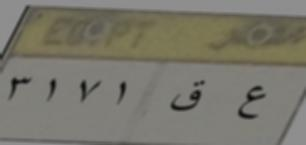1: (112, 76, 130, 113), (44, 76, 60, 107)
3: (6, 72, 35, 104)
7: (76, 73, 101, 111)
ain: (235, 80, 265, 127)
qaaf: (169, 75, 207, 120)
